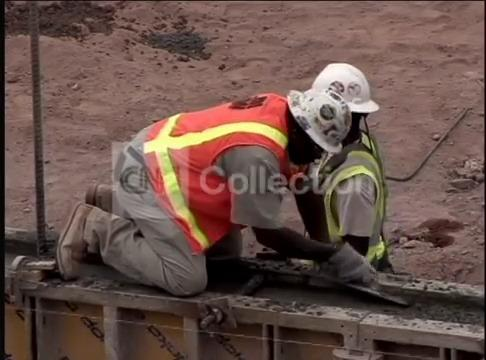Gloves: (315, 71, 375, 112), (335, 242, 369, 289)
Helmet: (286, 87, 352, 154)
Person: (50, 89, 347, 297), (311, 61, 396, 297)
Safety Boot: (61, 199, 92, 292)
Safety Vest: (334, 161, 385, 243)
no-vest: (134, 91, 293, 255)
